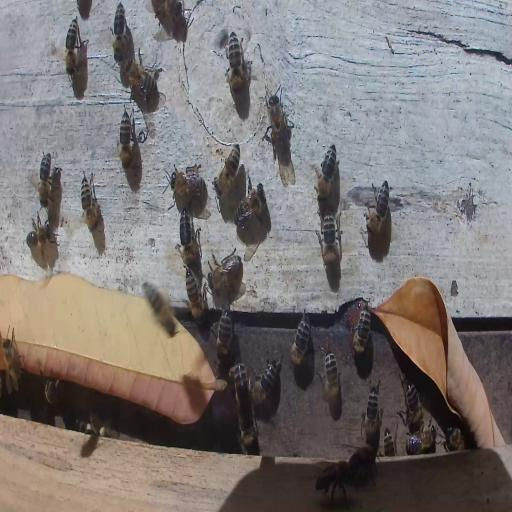nonpollenbee: (124, 54, 160, 102), (316, 457, 354, 502), (162, 164, 201, 206), (317, 211, 342, 273), (235, 180, 266, 228), (366, 180, 391, 238), (206, 252, 242, 292), (80, 172, 104, 231), (226, 32, 248, 96), (254, 356, 282, 403), (315, 146, 338, 202), (320, 348, 342, 406), (348, 442, 377, 486), (268, 88, 287, 154), (216, 143, 241, 193), (290, 314, 312, 368), (362, 382, 381, 443), (350, 305, 372, 357), (2, 328, 20, 390), (403, 422, 437, 454), (185, 270, 206, 320), (402, 381, 422, 430), (178, 206, 195, 263), (65, 16, 80, 80), (118, 108, 132, 171), (112, 0, 126, 61), (24, 223, 52, 252), (216, 310, 232, 360), (230, 364, 250, 404), (38, 150, 52, 206), (441, 426, 465, 452), (238, 422, 256, 454), (45, 378, 59, 405), (383, 429, 395, 458)
pollenbee: (141, 276, 178, 339), (85, 414, 106, 440)
